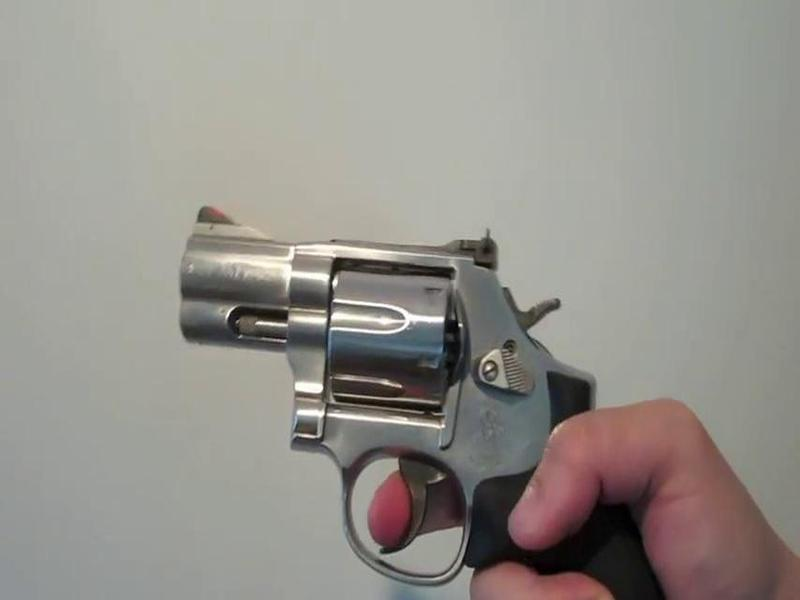Revolver: (145, 189, 675, 600)
